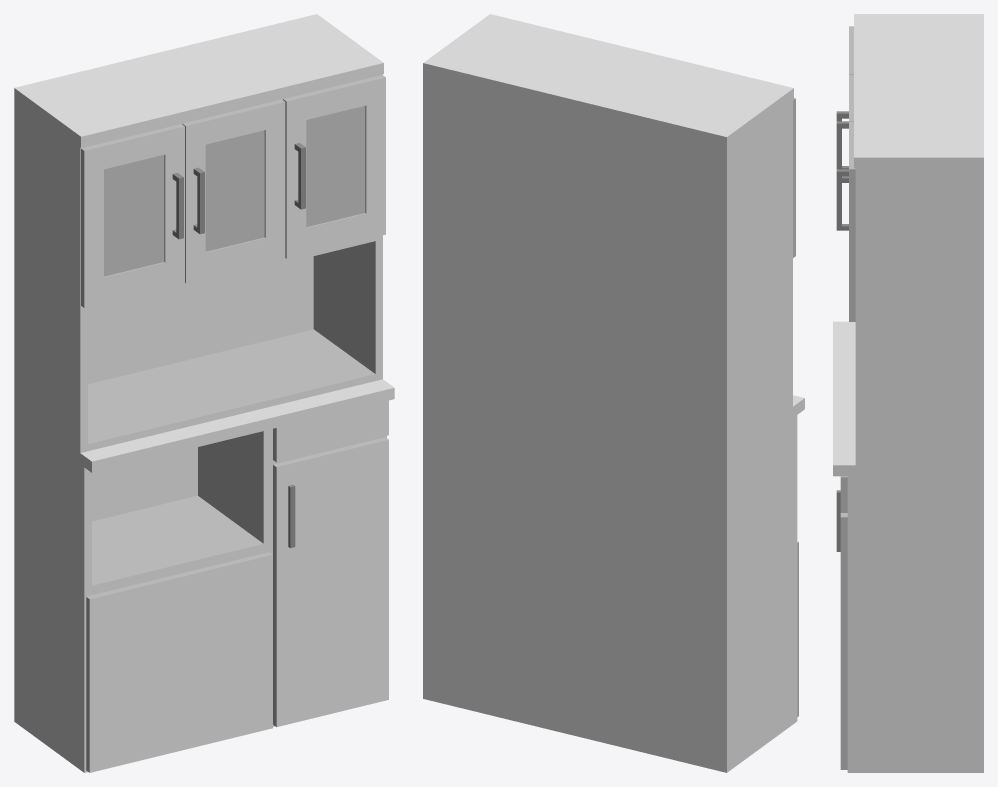
File: cabinet.gltf
3 views of the same model, side by side, from view 1: azimuth 30°, elevation 25°; view 2: azimuth 150°, elevation 25°; view 3: azimuth 270°, elevation 25° (orthographic). The views are drawn at different scales.
Visible parts, largest first — view 1: cabinet; view 2: cabinet; view 3: cabinet.
Part boxes in pixels (x1,y1,x2,y2): cabinet: [14, 14, 394, 772]; cabinet: [423, 14, 804, 772]; cabinet: [833, 14, 983, 772].
Size of the model in its own units: 0.9 by 1.8 by 0.4.
Materials: 3 (3 with a texture image).
